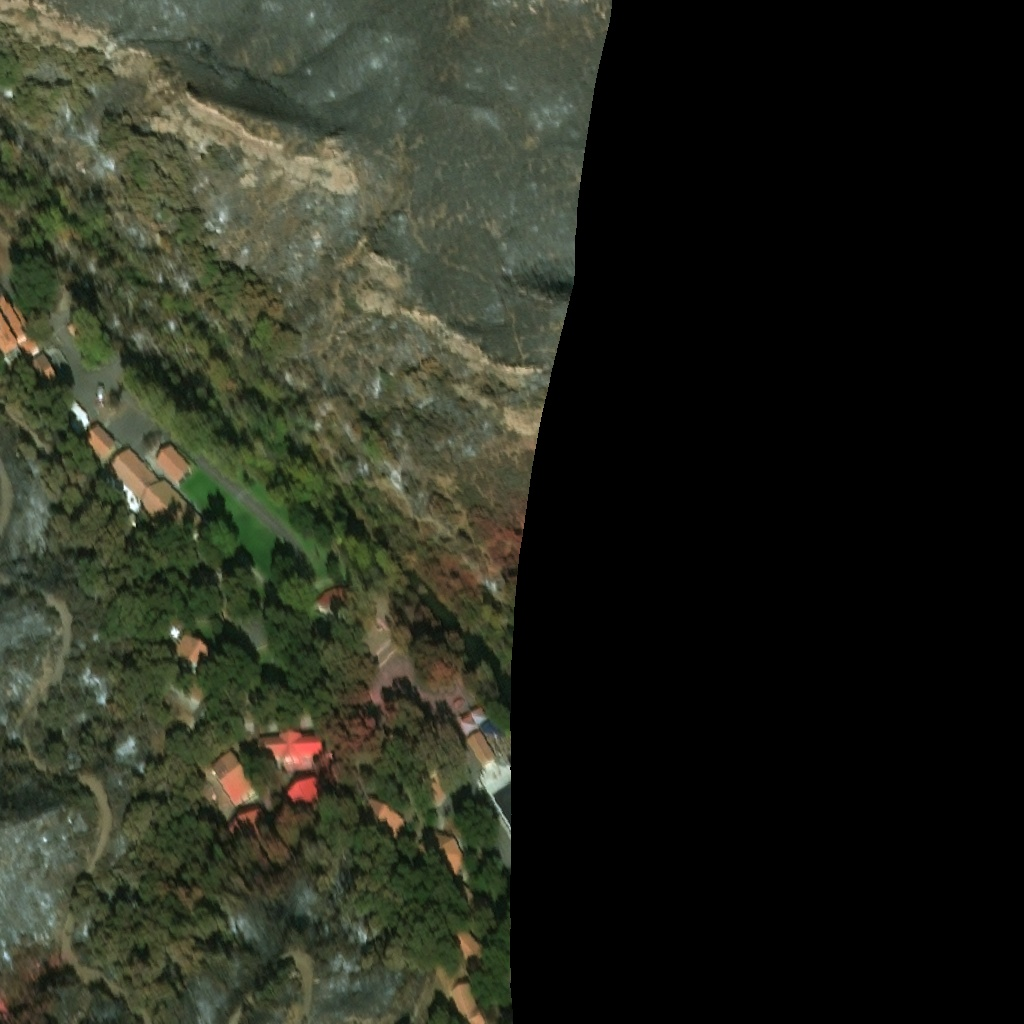0 no-damage: (409, 823, 499, 926), (333, 784, 406, 858), (138, 471, 204, 536), (276, 756, 345, 809), (205, 740, 257, 798), (104, 437, 158, 491), (0, 290, 40, 360), (217, 795, 272, 844), (440, 918, 490, 969), (254, 724, 322, 754), (172, 625, 215, 667), (448, 974, 484, 1023), (53, 387, 89, 427), (154, 437, 190, 476), (82, 416, 117, 455), (25, 345, 58, 381), (310, 579, 358, 603), (455, 702, 490, 731), (465, 724, 494, 758), (64, 311, 87, 334)
